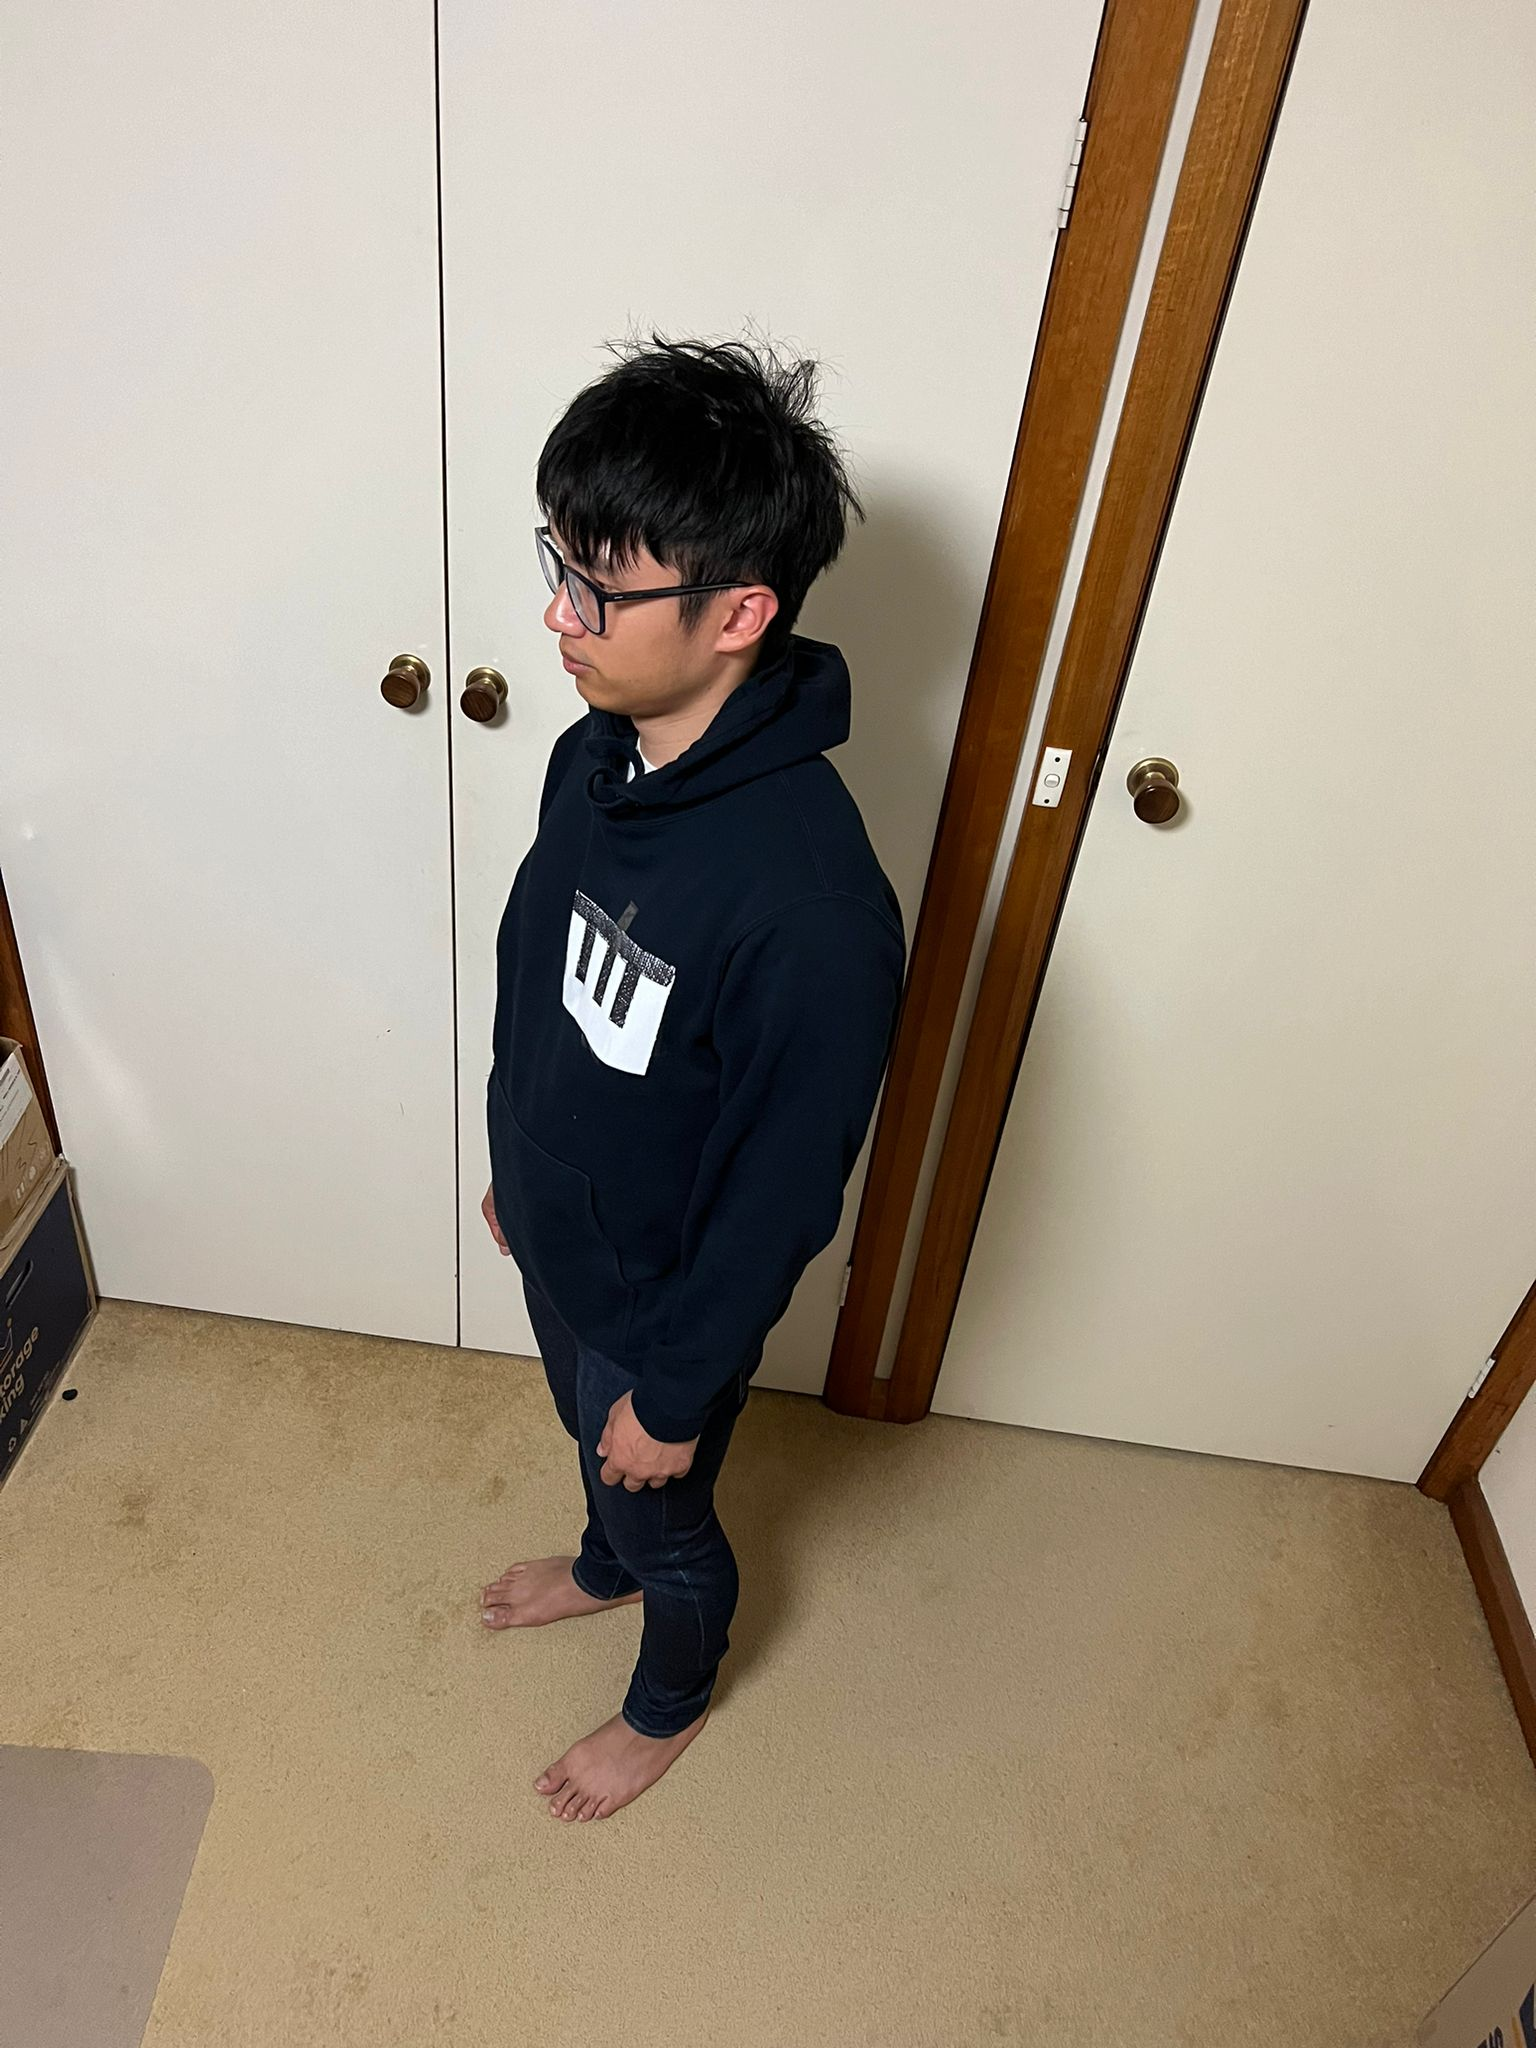Staff: (479, 343, 904, 1829)
